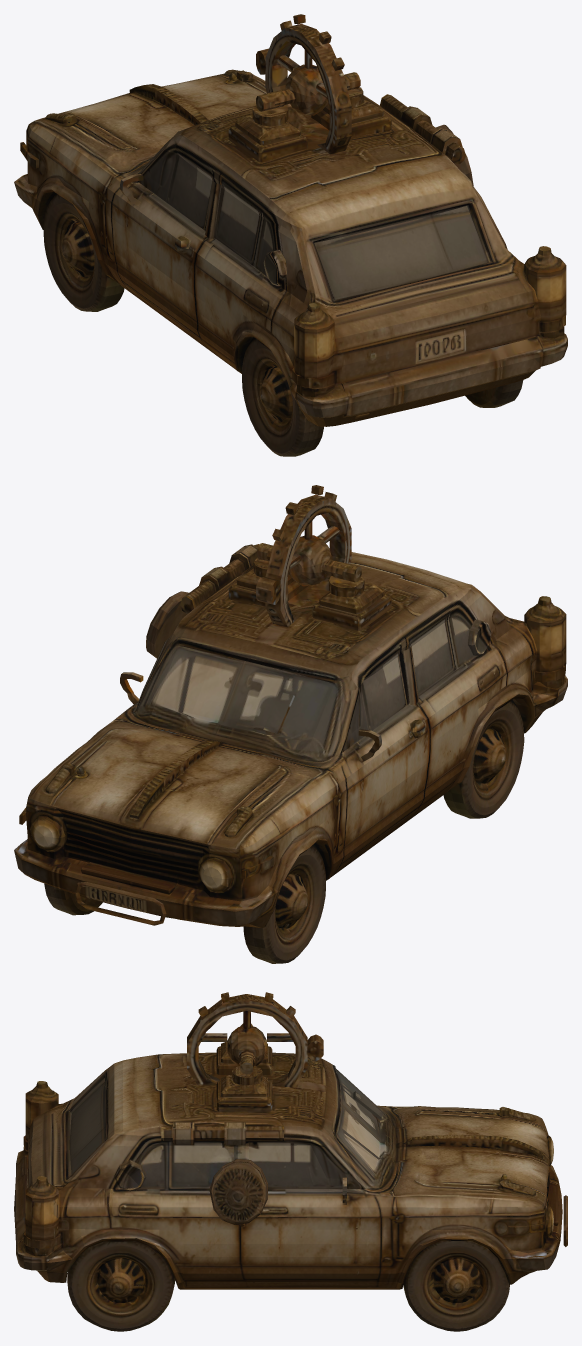
3 views of the same model, one above another, from view 1: azimuth 30°, elevation 25°; view 2: azimuth 150°, elevation 25°; view 3: azimuth 270°, elevation 25° (orthographic). The views are drawn at different scales.
Parts seen in each view (by area): view 1: tripo_node_030714b5_Material.001; view 2: tripo_node_030714b5_Material.001; view 3: tripo_node_030714b5_Material.001.
Part boxes in pixels (x1,y1,x2,y2): tripo_node_030714b5_Material.001: (14, 14, 567, 456); tripo_node_030714b5_Material.001: (14, 485, 567, 963); tripo_node_030714b5_Material.001: (14, 992, 567, 1331).
Bounding box in the file's own units: 5.8 × 6.65 × 11.31.
